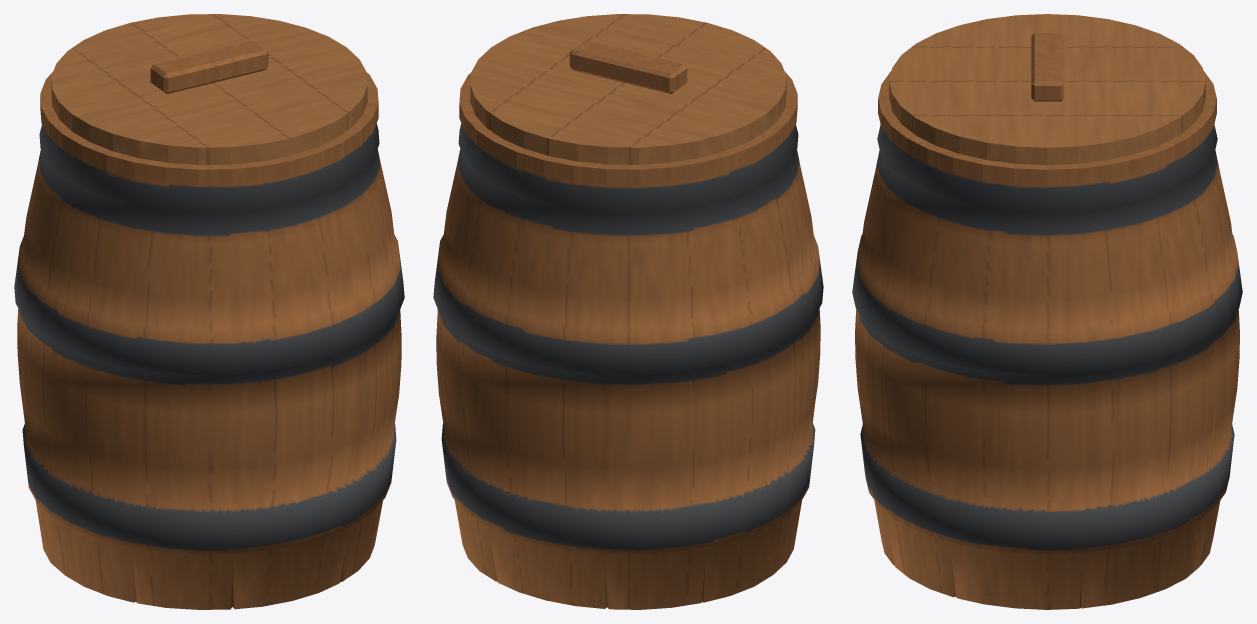
Rendered from storage_barrel.fbx.
3 views of the same model, side by side, from view 1: azimuth 30°, elevation 25°; view 2: azimuth 150°, elevation 25°; view 3: azimuth 270°, elevation 25° (orthographic).
Parts seen in each view (by area): view 1: storage_barrel_Body, storage_barrel_Lid; view 2: storage_barrel_Body, storage_barrel_Lid; view 3: storage_barrel_Body, storage_barrel_Lid.
Part boxes in pixels (<box>): storage_barrel_Body: <box>14,72,404,609</box>; storage_barrel_Lid: <box>51,14,367,164</box>; storage_barrel_Body: <box>433,71,823,609</box>; storage_barrel_Lid: <box>470,14,786,164</box>; storage_barrel_Body: <box>852,70,1242,609</box>; storage_barrel_Lid: <box>889,14,1205,165</box>.
Bounding box in the file's own units: 0.55 × 0.75 × 0.55.
Materials: 1 (1 with a texture image).
